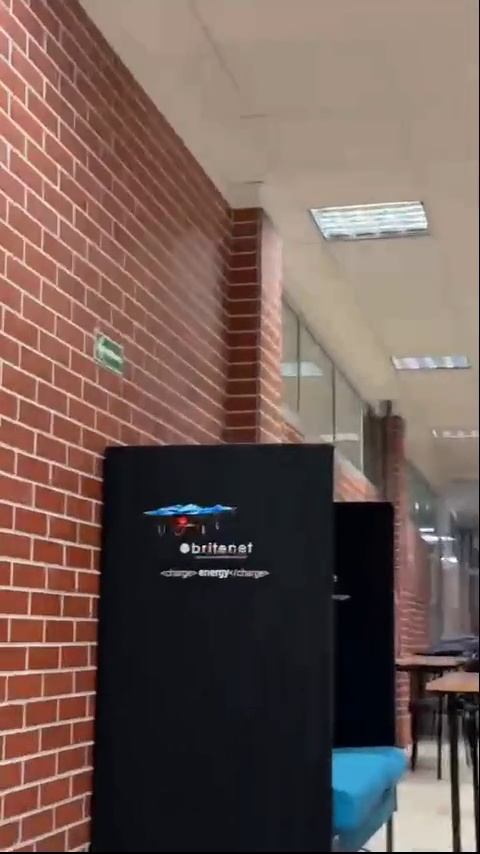drone: (143, 501, 242, 539)
